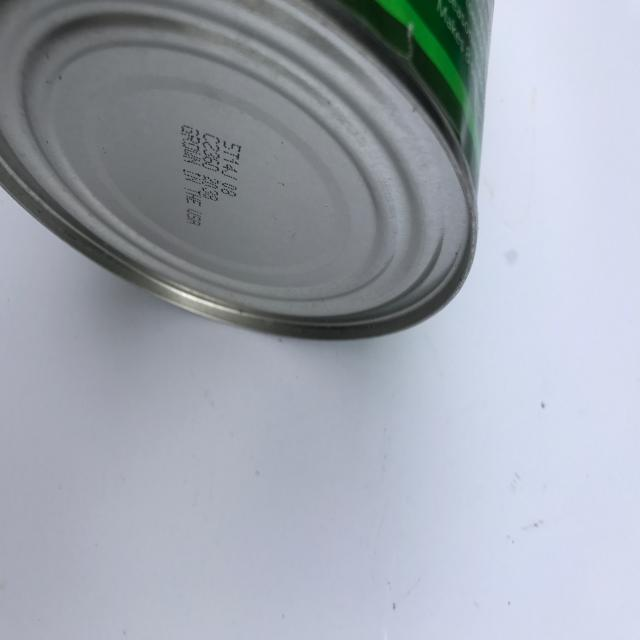metal: (1, 0, 494, 341)
